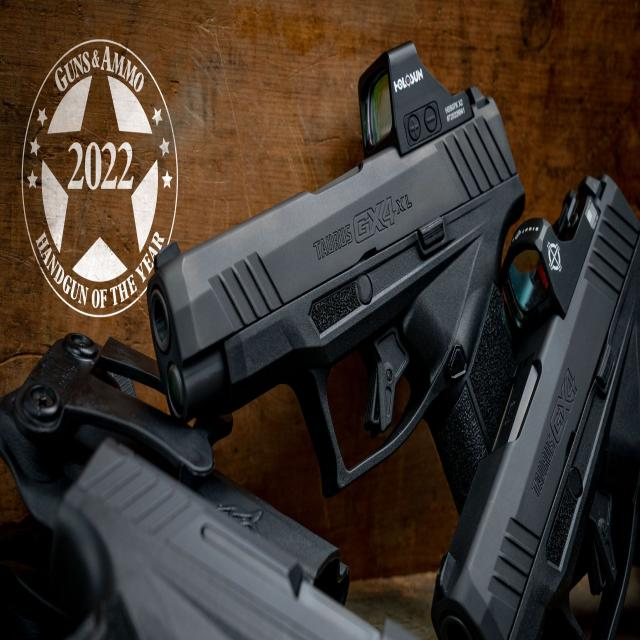HandGun: (145, 45, 527, 505), (431, 175, 640, 640)
